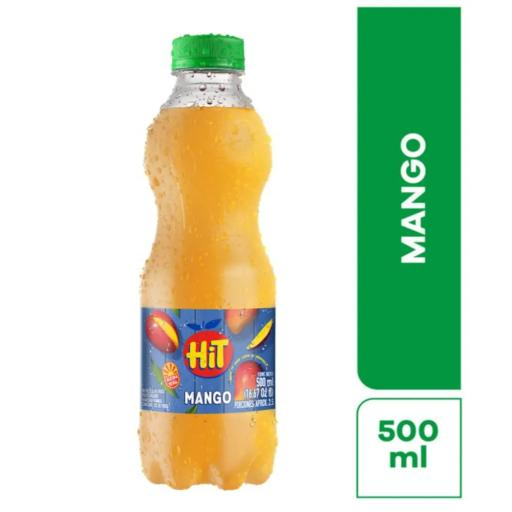JugoHM: (104, 6, 290, 502)
